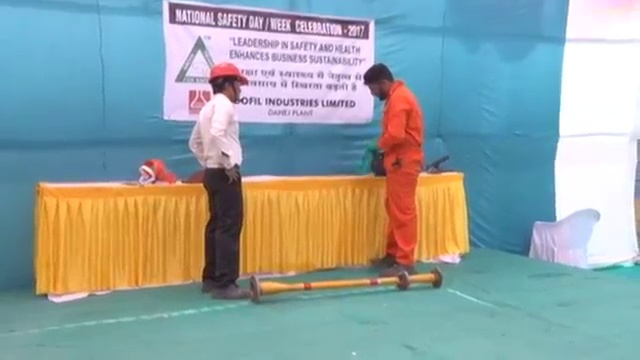helmet: (206, 61, 247, 88)
helmet_off: (365, 62, 397, 101)
helmet_on: (204, 62, 249, 104)
person: (189, 61, 250, 300), (363, 61, 425, 278)
